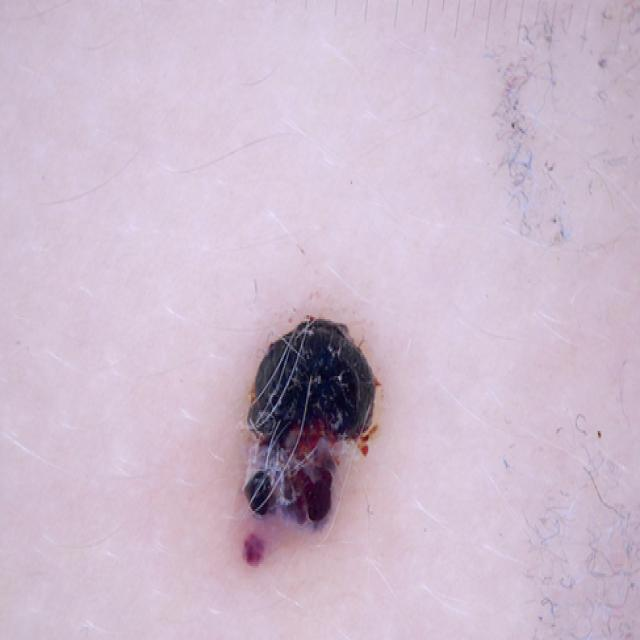Vascular Lesions: (201, 290, 456, 640)
